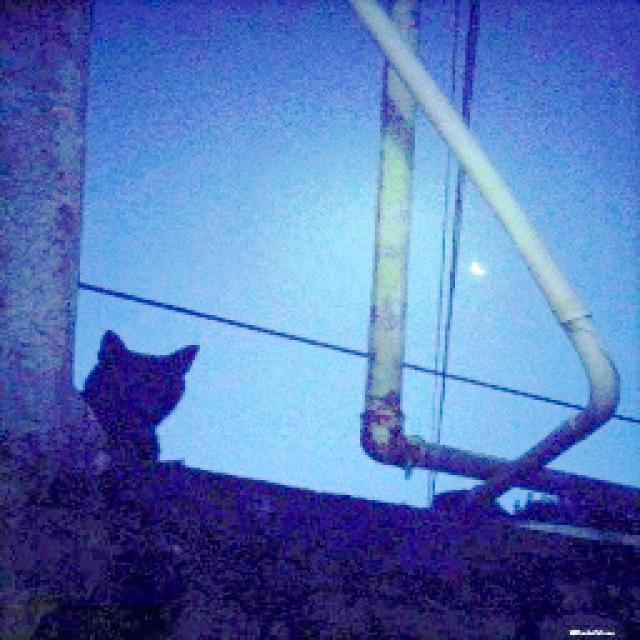cat: (78, 329, 204, 474)
